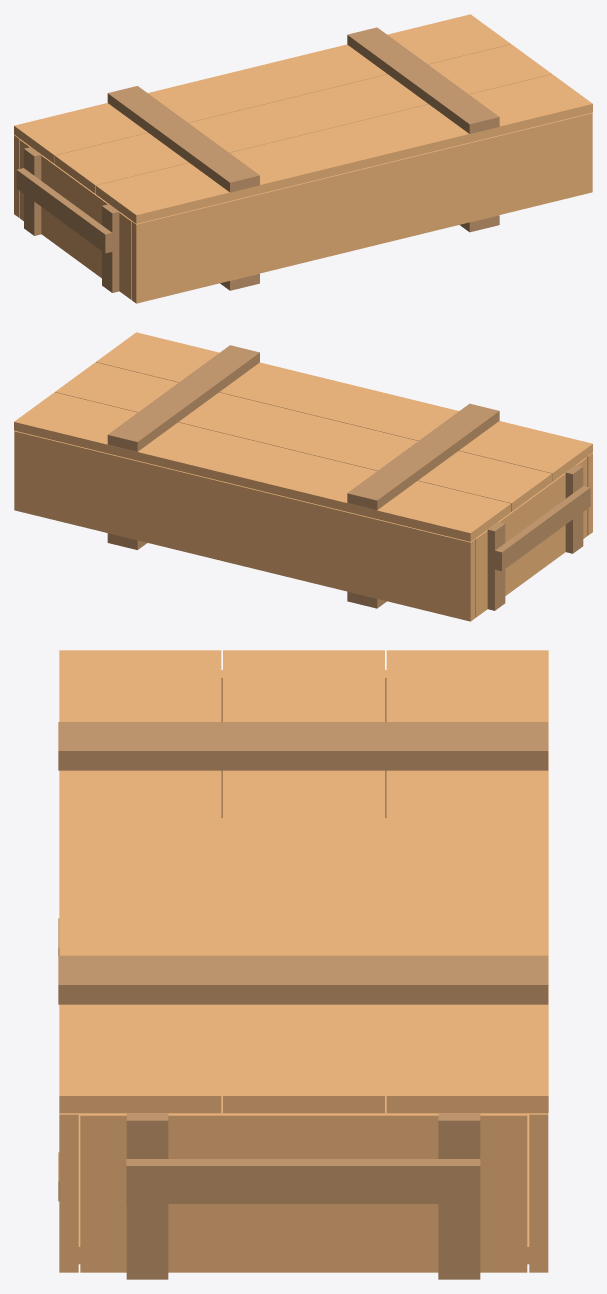
3 renders of one model, top to bottom at view 1: azimuth 30°, elevation 25°; view 2: azimuth 150°, elevation 25°; view 3: azimuth 270°, elevation 25°, orthographic. The views are drawn at different scales.
Parts seen in each view (by area): view 1: crates.001; view 2: crates.001; view 3: crates.001.
Boxes of the visible parts, x1,y1,x2,y2 form: crates.001: (14, 14, 592, 303); crates.001: (14, 332, 592, 621); crates.001: (58, 650, 548, 1279).
Bounding box in the file's own units: 552 × 117 × 241.
